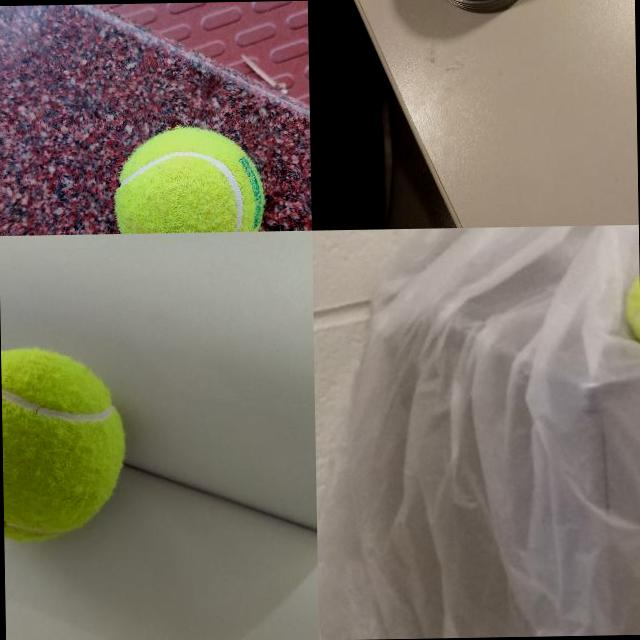Tennis Ball: (0, 344, 128, 544), (112, 126, 264, 233)
